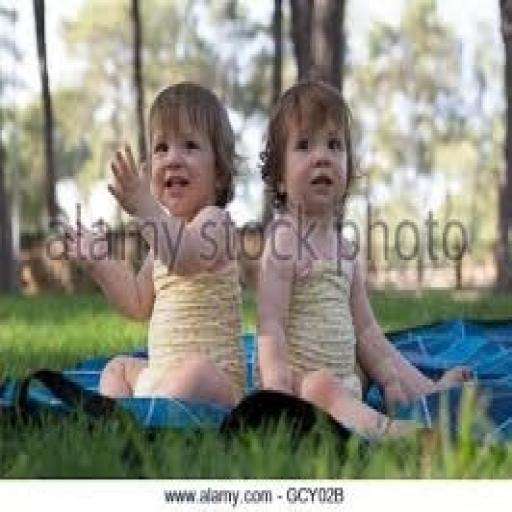sitting: (252, 76, 474, 447), (62, 78, 264, 412)
